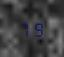nine: (32, 19, 44, 36)
seven: (19, 20, 31, 37)
